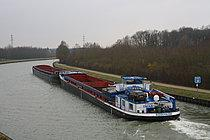Ship: (56, 67, 184, 125)
